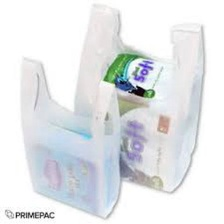plastic_bag: (72, 2, 206, 196), (8, 52, 136, 218)
